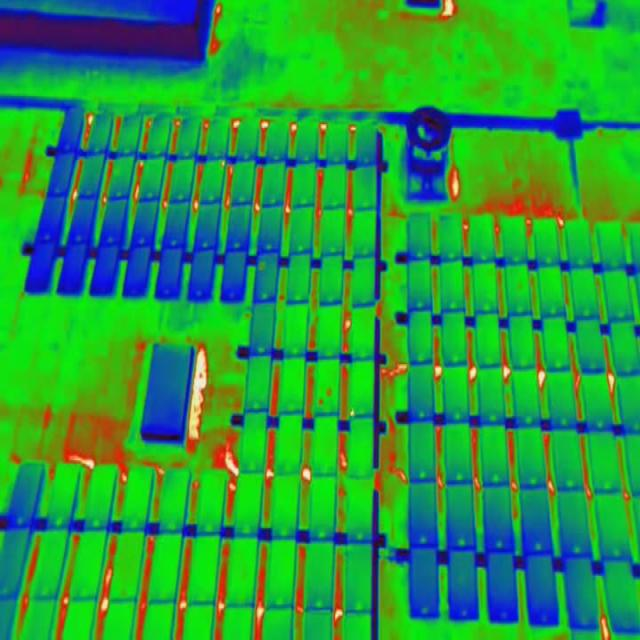Orange-Spots: (325, 388, 333, 398), (258, 262, 265, 272), (317, 398, 324, 407), (349, 409, 355, 418), (220, 159, 225, 167)
